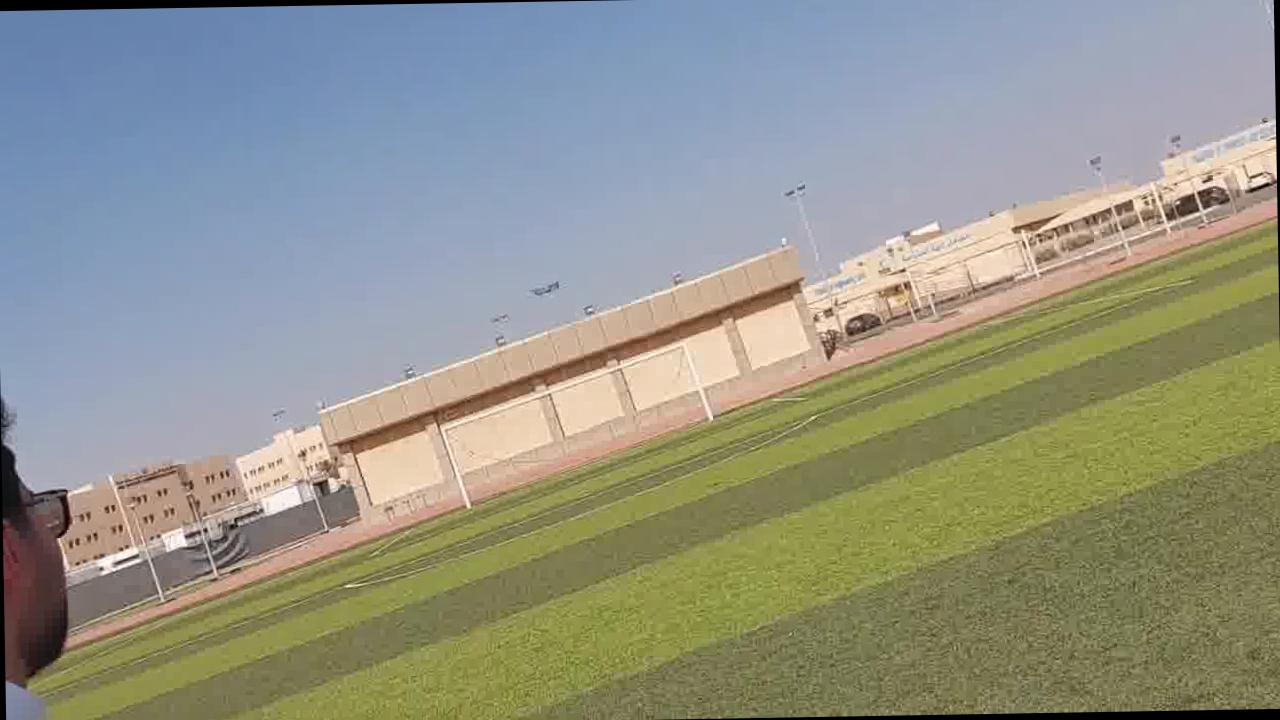drone: (522, 272, 572, 299)
